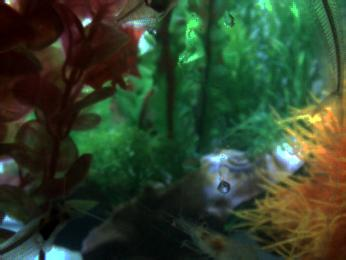X-ray fish: (102, 1, 180, 41)
glassfish: (294, 1, 346, 125), (1, 201, 76, 260)
siberian prawn: (160, 211, 266, 260)
